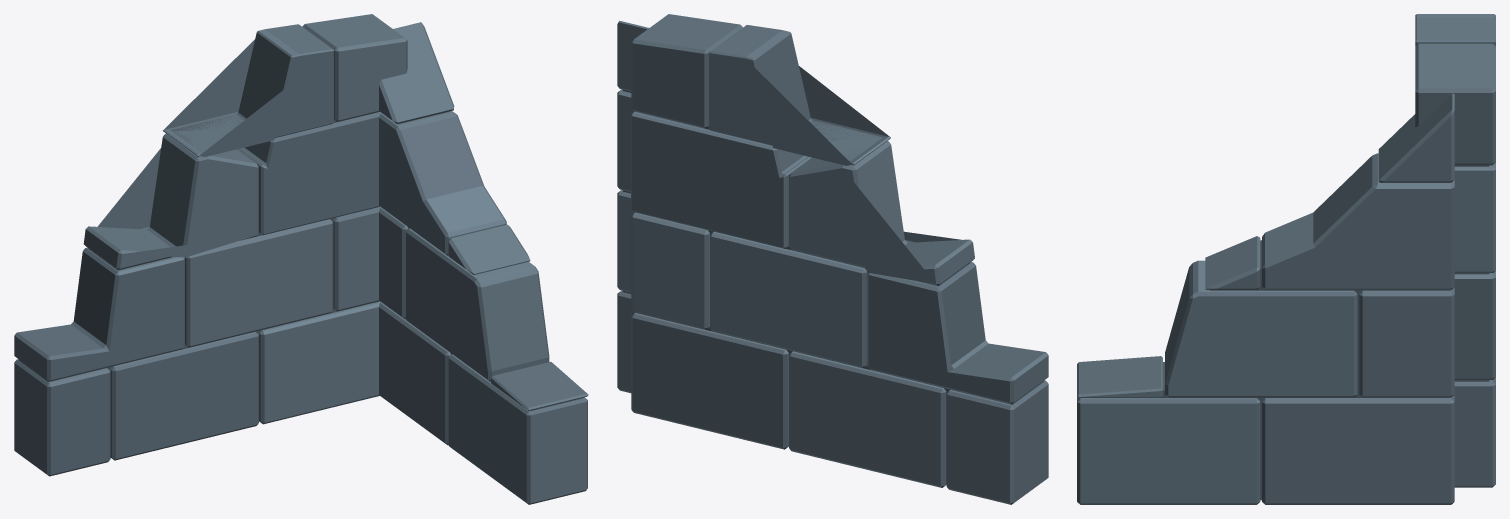
Rendered from A19_Ruin_Corner.fbx.
The picture shows the model from 3 angles, left to right: view 1: azimuth 30°, elevation 25°; view 2: azimuth 150°, elevation 25°; view 3: azimuth 270°, elevation 25°; orthographic projection. The views are drawn at different scales.
Parts seen in each view (by area): view 1: A19_Ruin_Corner; view 2: A19_Ruin_Corner; view 3: A19_Ruin_Corner.
Boxes of the visible parts, x1,y1,x2,y2 form: A19_Ruin_Corner: (14,14,588,504); A19_Ruin_Corner: (617,14,1048,504); A19_Ruin_Corner: (1077,14,1495,504).
Bounding box in the file's own units: 2.17 × 1.91 × 1.77.
1 material, 1 textured.
